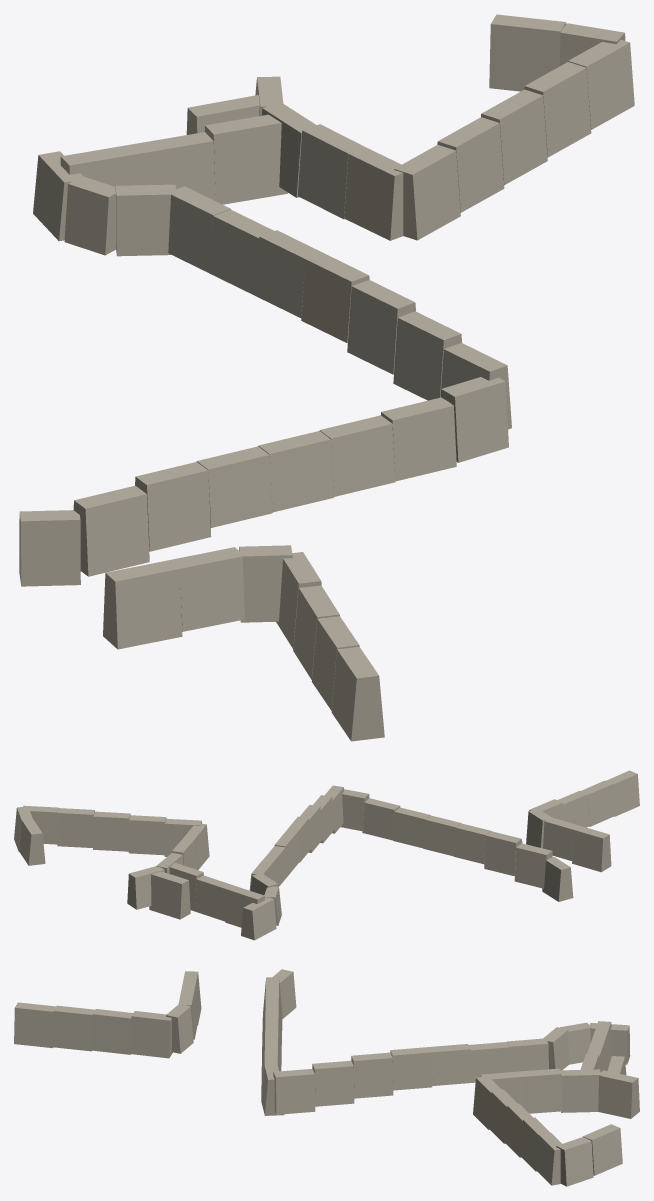
File: kalkara_64_21_far.glb
3 renders of one model, top to bottom at view 1: azimuth 30°, elevation 25°; view 2: azimuth 150°, elevation 25°; view 3: azimuth 270°, elevation 25°, orthographic. The views are drawn at different scales.
Visible parts, largest first — view 1: geometry_0; view 2: geometry_0; view 3: geometry_0.
Boxes of the visible parts, x1=… form: geometry_0: x1=19, y1=14, x2=634, y2=741; geometry_0: x1=14, y1=770, x2=639, y2=940; geometry_0: x1=14, y1=969, x2=639, y2=1186.
Size of the model in its own units: 171 by 31.89 by 191.
